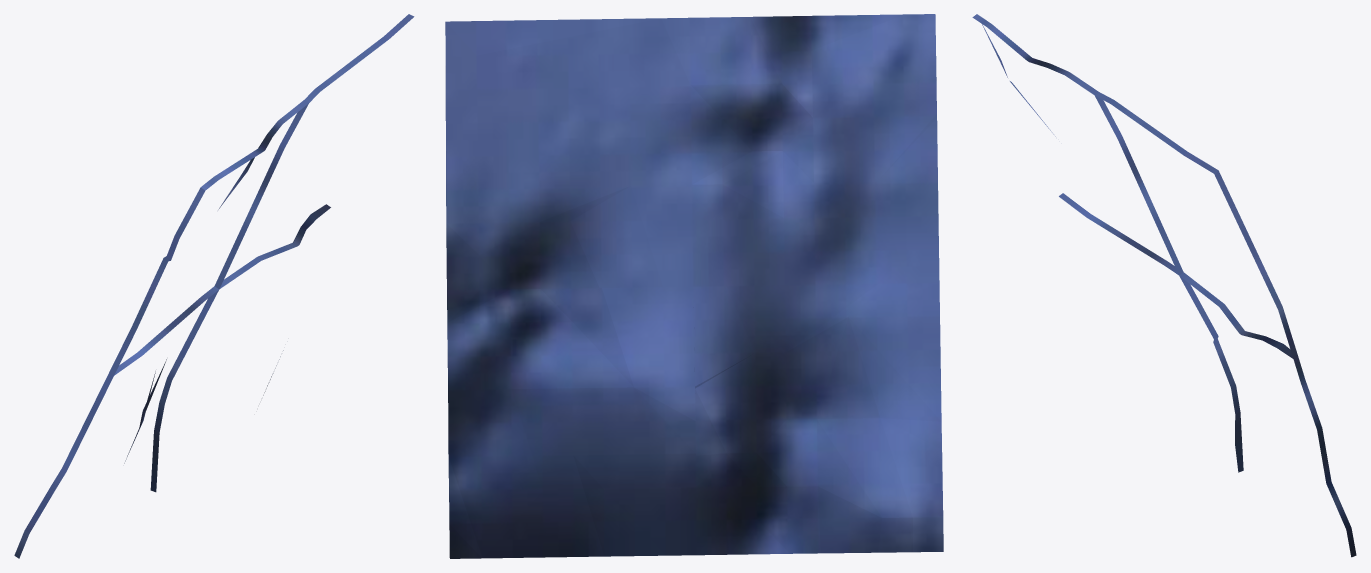
3 views of the same model, side by side, from view 1: azimuth 30°, elevation 25°; view 2: azimuth 150°, elevation 25°; view 3: azimuth 270°, elevation 25° (orthographic). The views are drawn at different scales.
Bounding box in the file's own units: 19609 × 18760 × 15385.
1 material, 1 textured.
